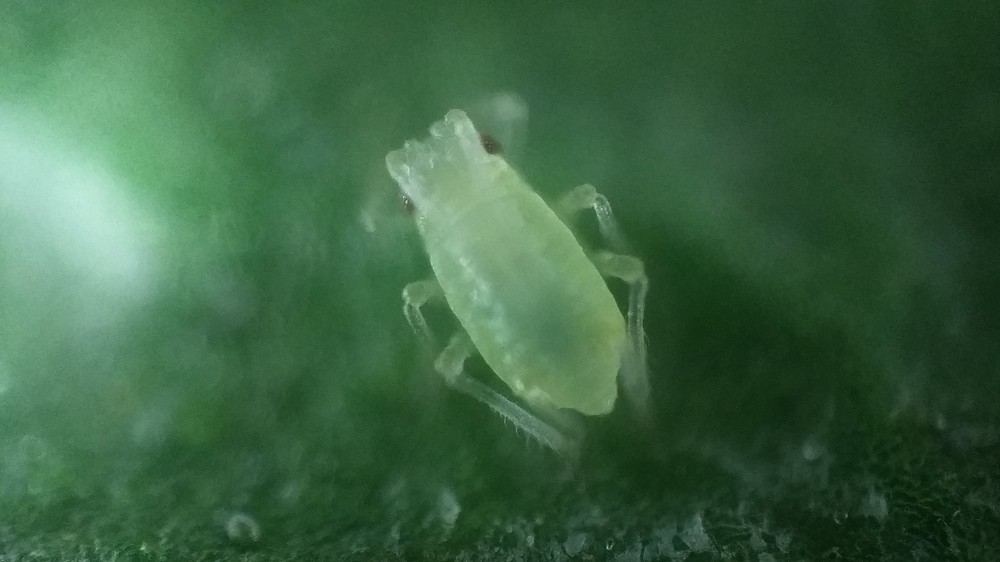Pulgon: (342, 90, 695, 482)
